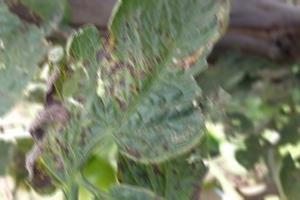Tomato Septoria leaf spot: (26, 0, 232, 196)
